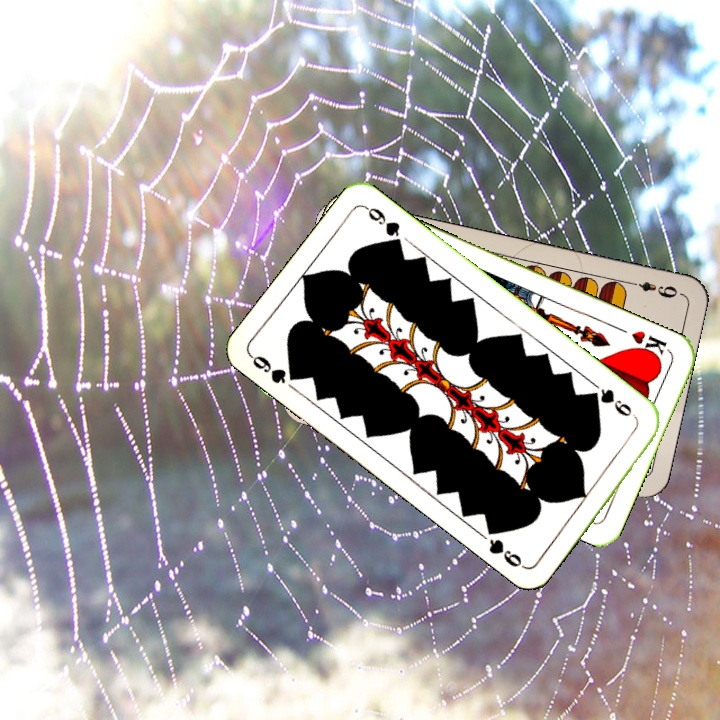E9: (624, 277, 680, 301)
G9: (586, 384, 640, 423), (246, 351, 303, 387)
HK: (627, 326, 672, 362)
